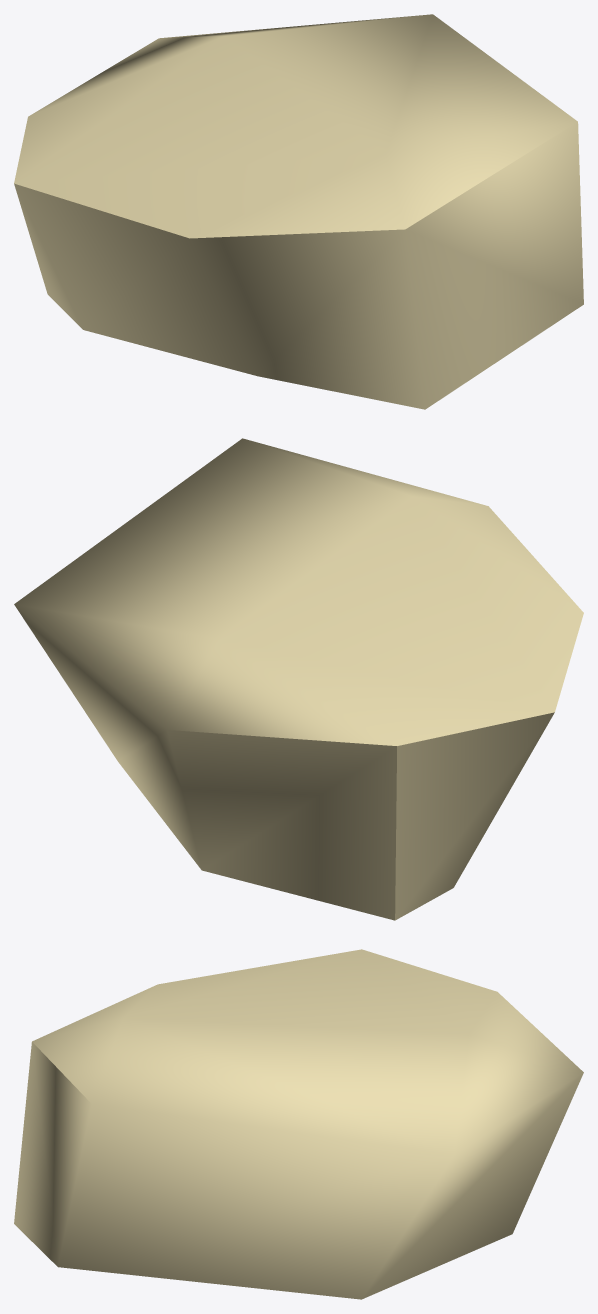
The model's file is rock3.fbx.
3 renders of one model, top to bottom at view 1: azimuth 30°, elevation 25°; view 2: azimuth 150°, elevation 25°; view 3: azimuth 270°, elevation 25°, orthographic. The views are drawn at different scales.
Parts seen in each view (by area): view 1: rock3; view 2: rock3; view 3: rock3.
Part boxes in pixels (x1=…): rock3: x1=14, y1=14, x2=583, y2=409; rock3: x1=14, y1=438, x2=583, y2=920; rock3: x1=14, y1=949, x2=583, y2=1299.
Size of the model in its own units: 1.46 by 0.6947 by 1.54.
